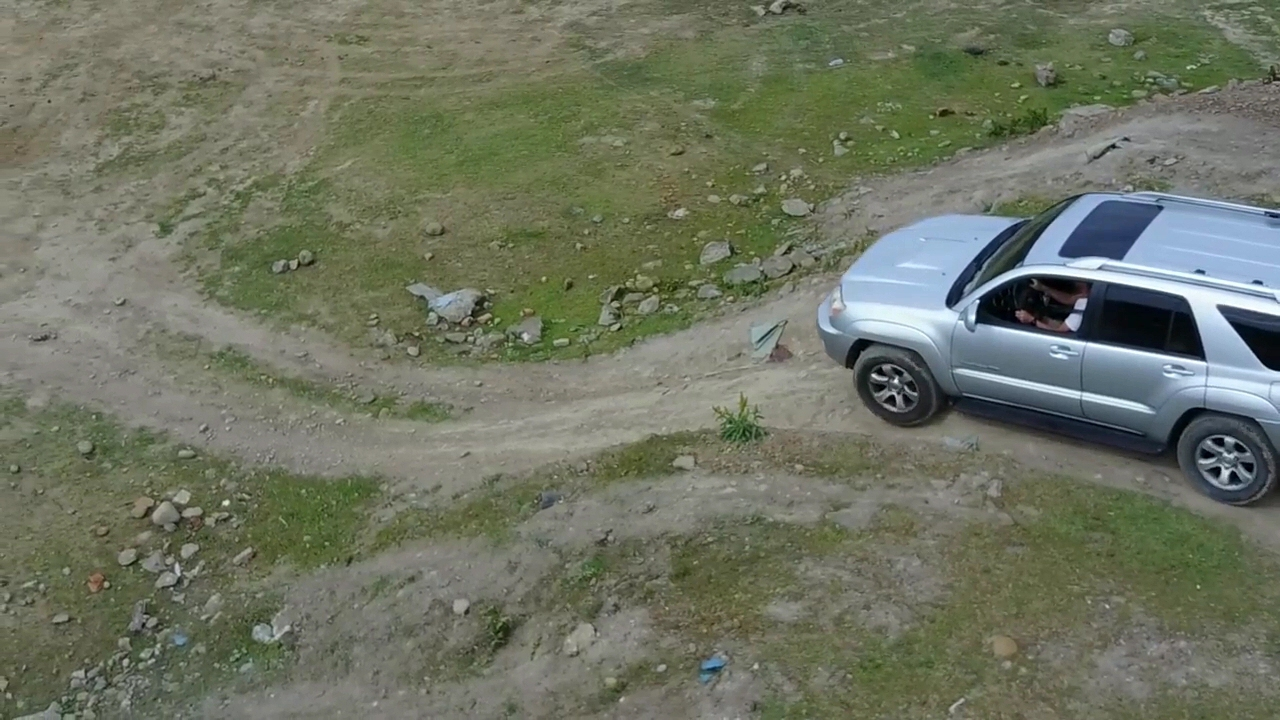araba: (811, 187, 1280, 504)
